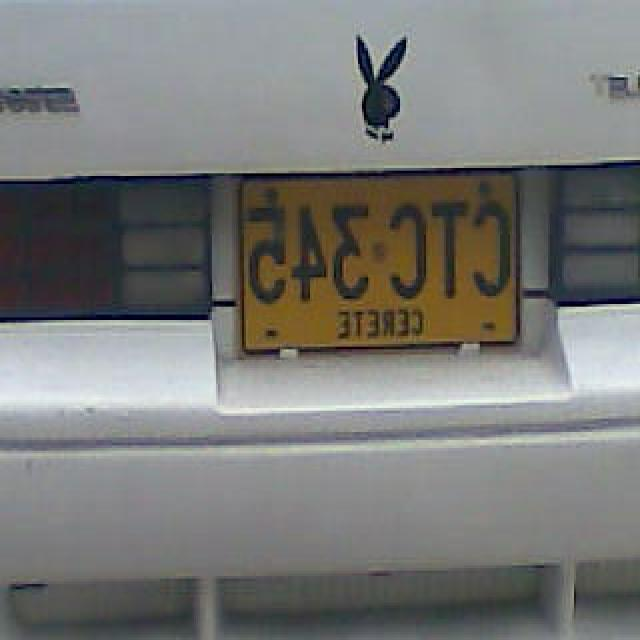placas: (241, 188, 518, 317)
